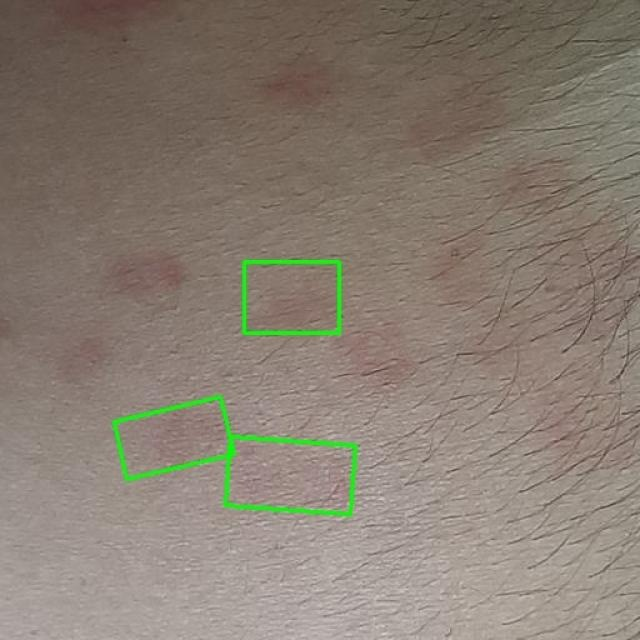Tinea Corporis: (226, 437, 356, 515), (114, 397, 234, 479), (244, 261, 339, 332)
